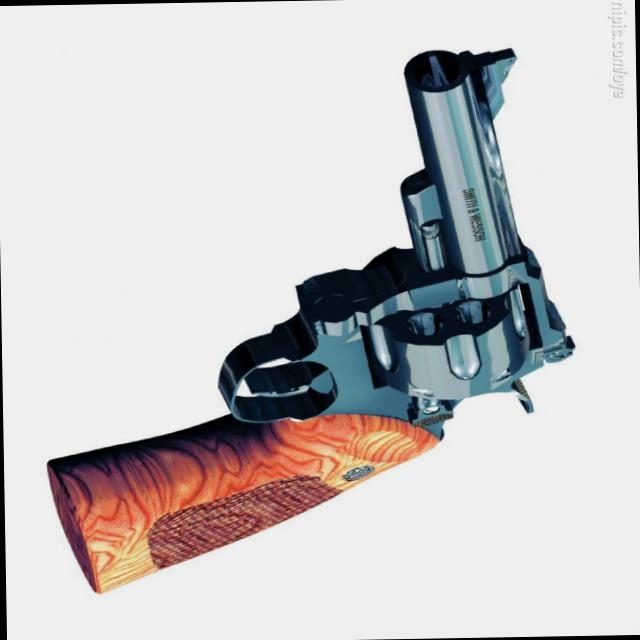handgun: (34, 40, 578, 588)
